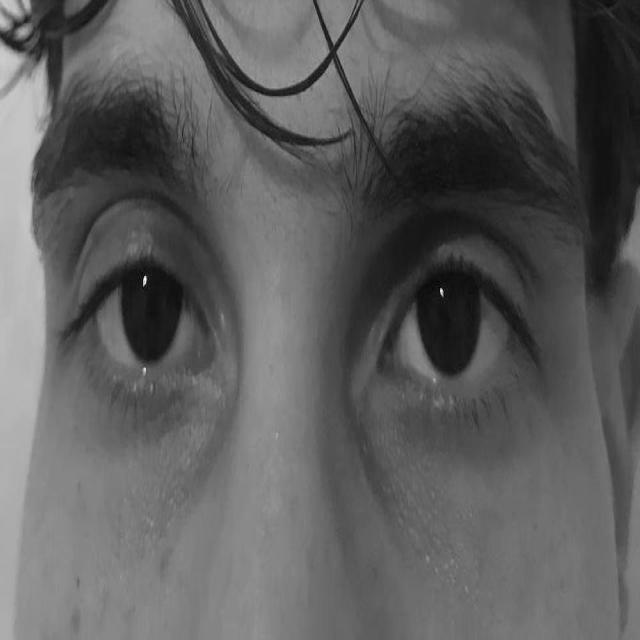real: (47, 136, 587, 494)
